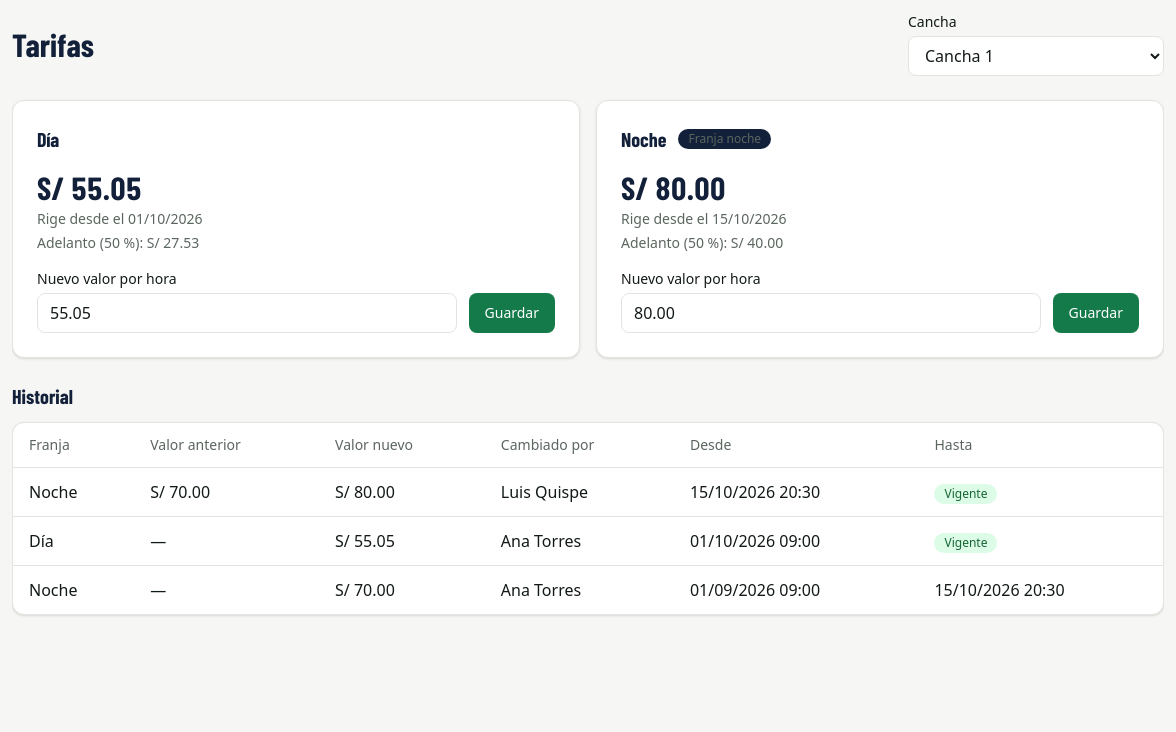
Scenario: Pantalla de tarifas › guardar envía el PUT de la franja, muestra el toast y vuelve a pedir las tarifas
The image size is (1176, 732).
Replace the text in the field labelled "Nuevo valor por hora" below "S/ 40.00" with "85,5" at (831,313), box [621, 293, 1040, 333]
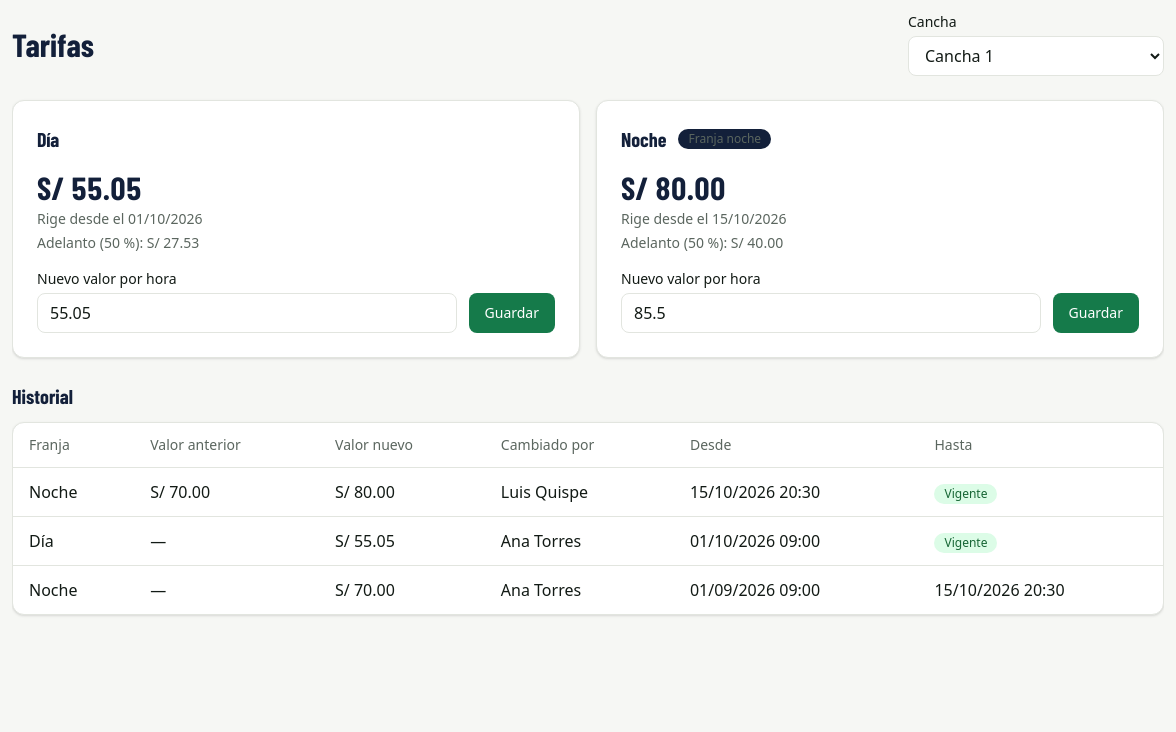
Click the 2nd button "Guardar".
click(1096, 313)  # box [1052, 293, 1139, 333]
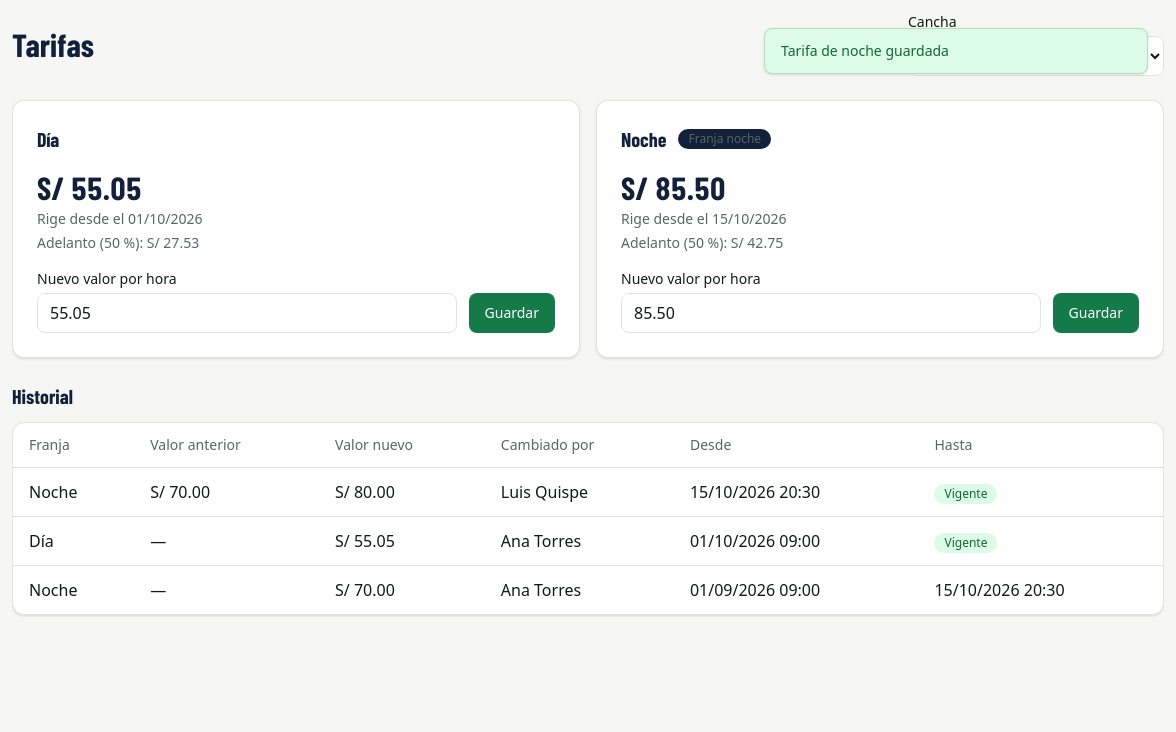
Check: the message reads "Tarifa de noche guardada", box [781, 41, 949, 60]
Check: the text "S/ 85.50" is shown, box [621, 168, 726, 206]
Check: the field labelled "Nuevo valor por hora" below "S/ 42.75" holds "85.50", box [621, 293, 1040, 333]
